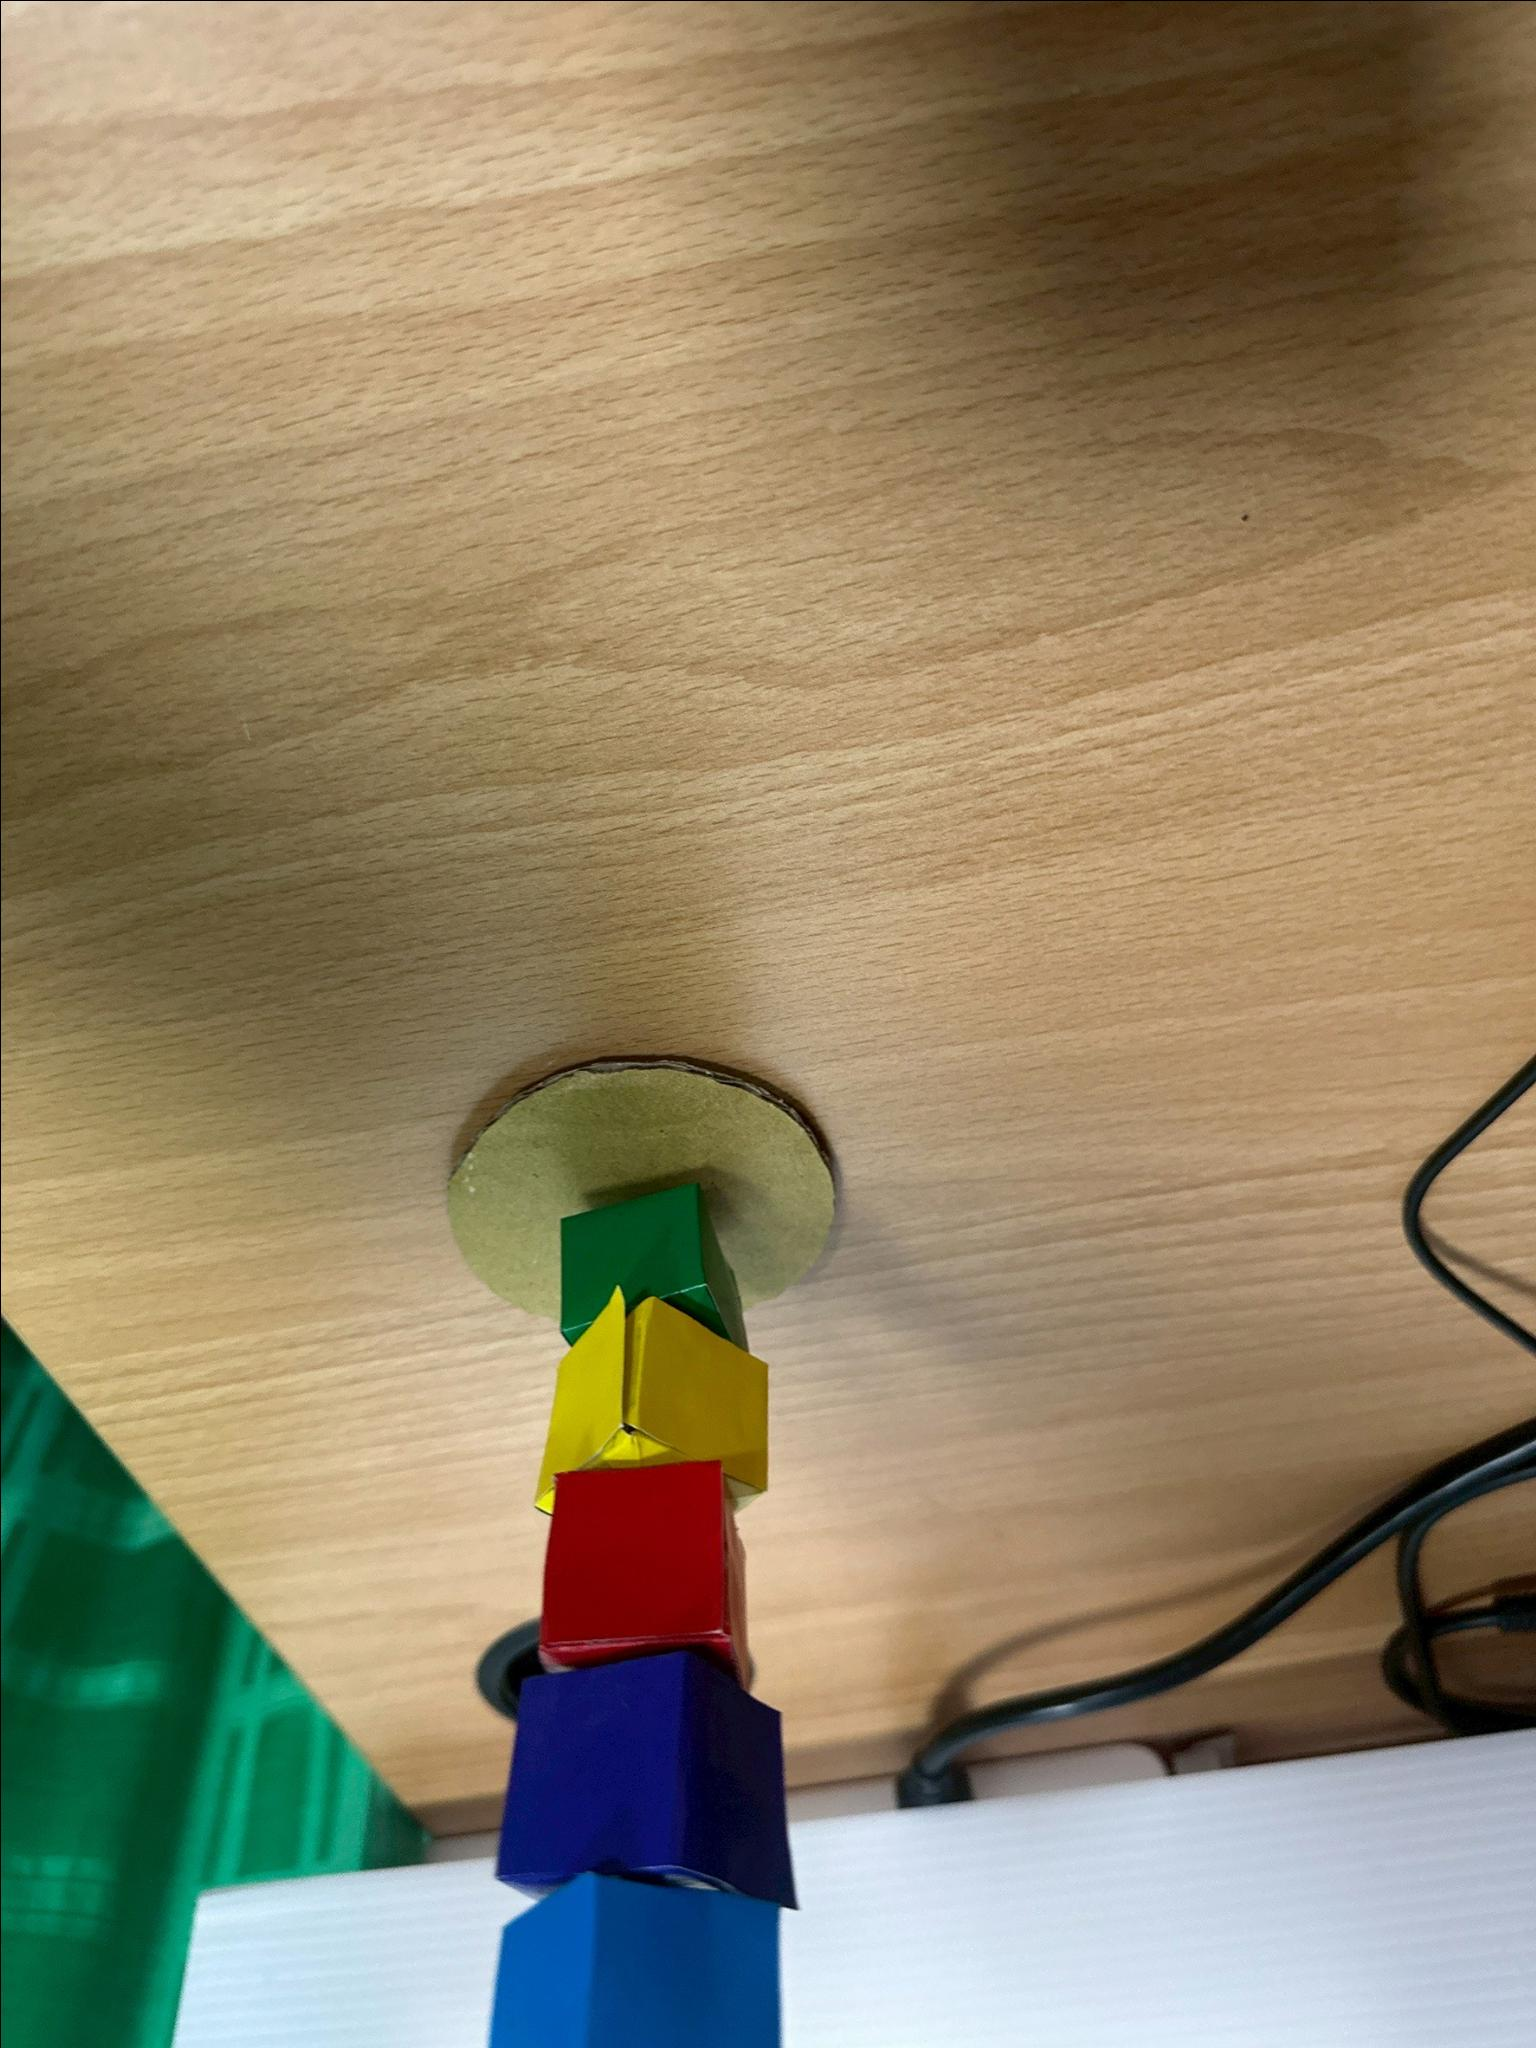base: (447, 1063, 833, 1319)
